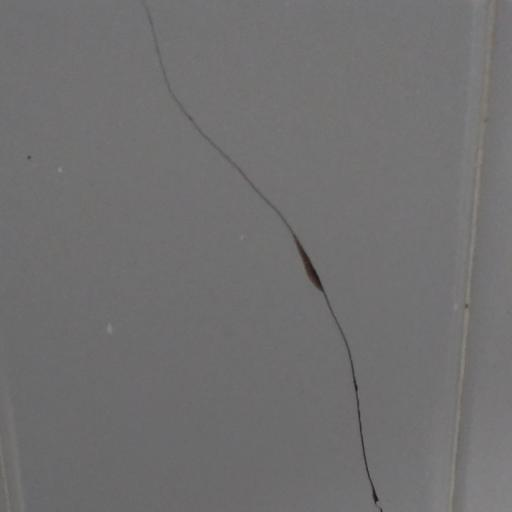minor_crack: (129, 0, 398, 512)
